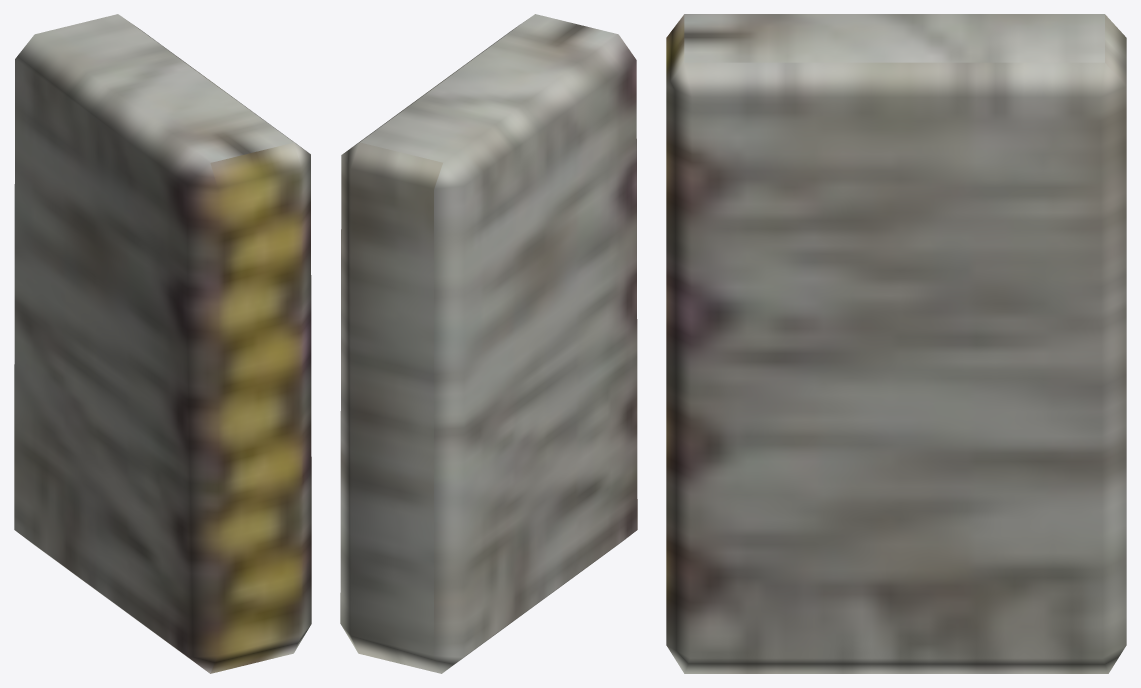
Rendered from mummyBook.glb.
3 views of the same model, side by side, from view 1: azimuth 30°, elevation 25°; view 2: azimuth 150°, elevation 25°; view 3: azimuth 270°, elevation 25° (orthographic). The views are drawn at different scales.
Visible parts, largest first — view 1: mummyBook; view 2: mummyBook; view 3: mummyBook.
Boxes of the visible parts, <box> form: mummyBook: <box>14,14,311,673</box>; mummyBook: <box>340,14,637,673</box>; mummyBook: <box>666,14,1126,673</box>.
Size of the model in its own units: 0.095 by 0.373 by 0.2545.
1 material, 1 textured.
